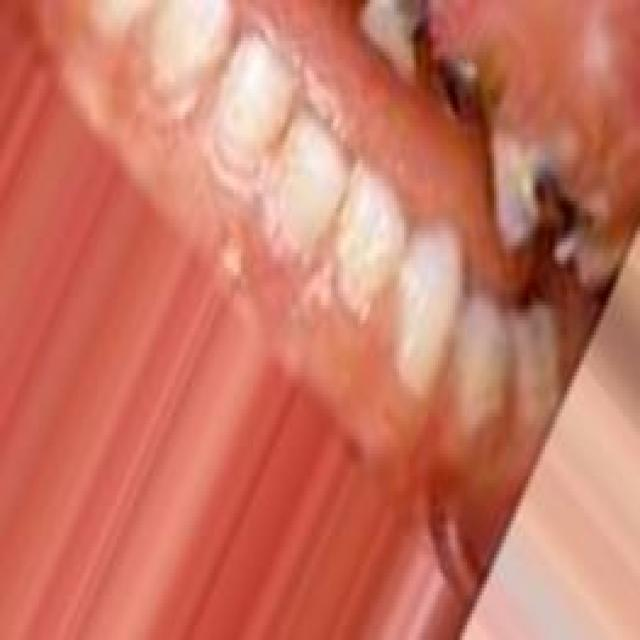caries: (489, 122, 562, 230), (552, 187, 612, 273), (423, 28, 482, 111), (382, 0, 438, 82)
